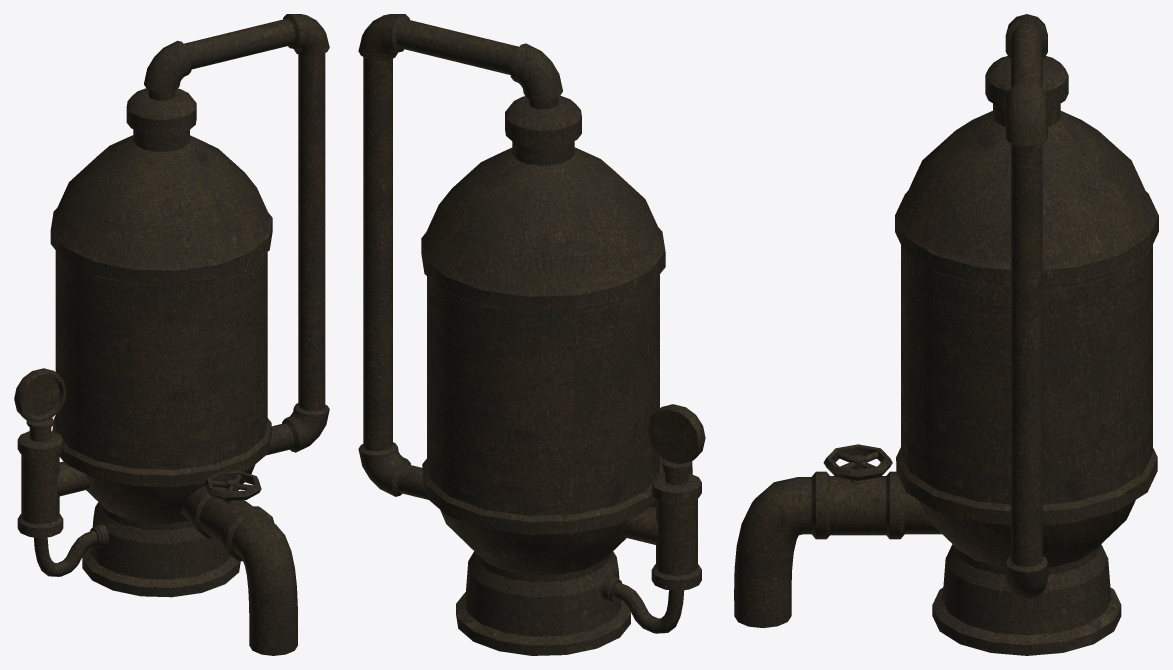
Rendered from distillery_mx_1.obj.
3 views of the same model, side by side, from view 1: azimuth 30°, elevation 25°; view 2: azimuth 150°, elevation 25°; view 3: azimuth 270°, elevation 25° (orthographic). The views are drawn at different scales.
Parts seen in each view (by area): view 1: distillery_mx_1; view 2: distillery_mx_1; view 3: distillery_mx_1.
Part boxes in pixels (<box>): distillery_mx_1: <box>14,14,329,655</box>; distillery_mx_1: <box>358,14,705,655</box>; distillery_mx_1: <box>734,14,1158,655</box>.
Bounding box in the file's own units: 2.22 × 3.52 × 2.22.
